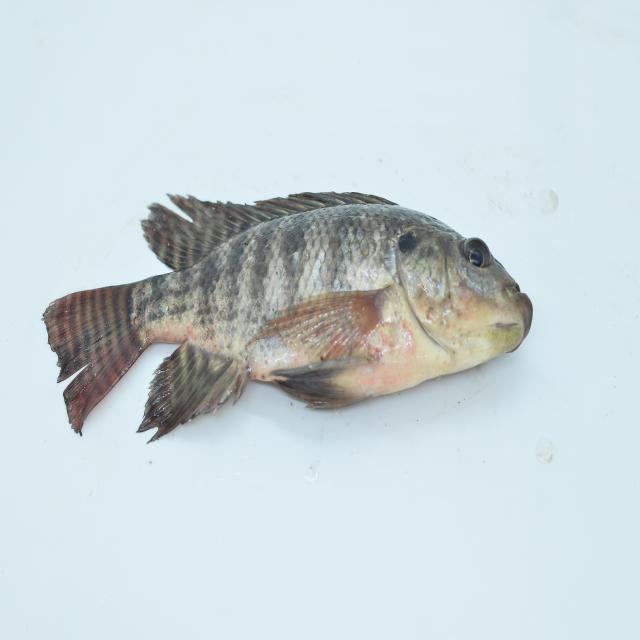Columnaris Disease: (31, 138, 545, 482)
